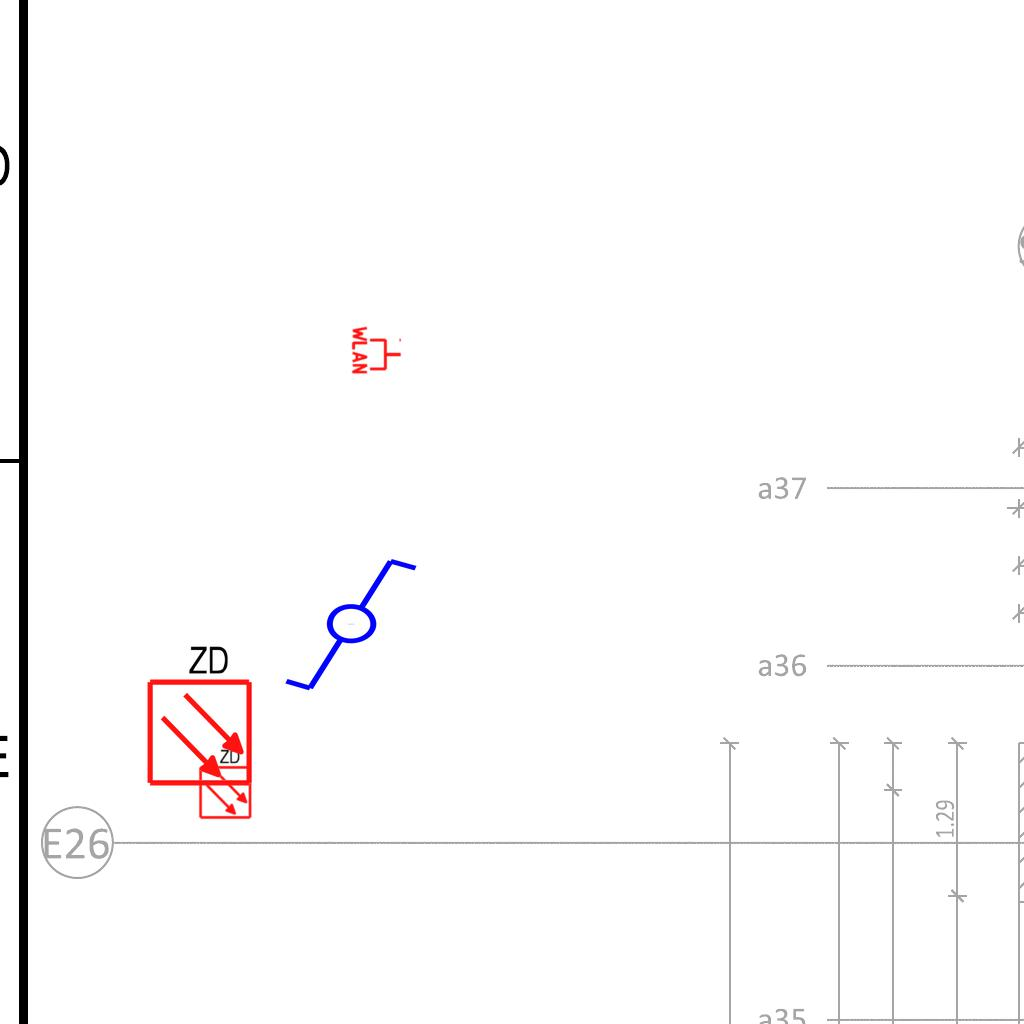WLAN: (351, 324, 403, 376)
Wechselschalter: (281, 554, 438, 698)
ZD_Melder_in_Zwischendecke_mit_Revisionsoeffnung_mind_40_x_40_cm: (141, 639, 255, 788), (196, 746, 253, 820)
